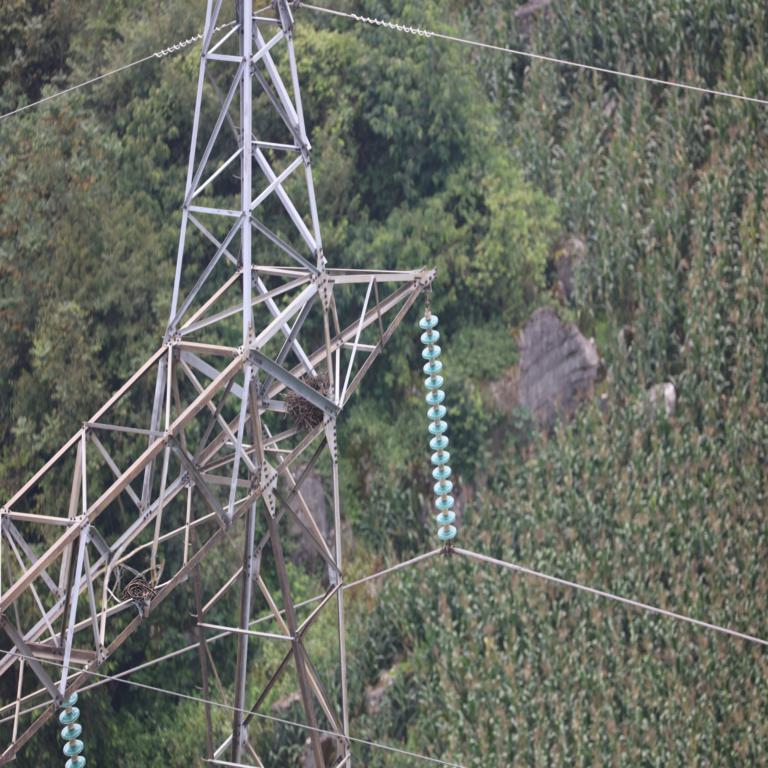nest: (285, 374, 325, 427), (125, 573, 155, 610)
